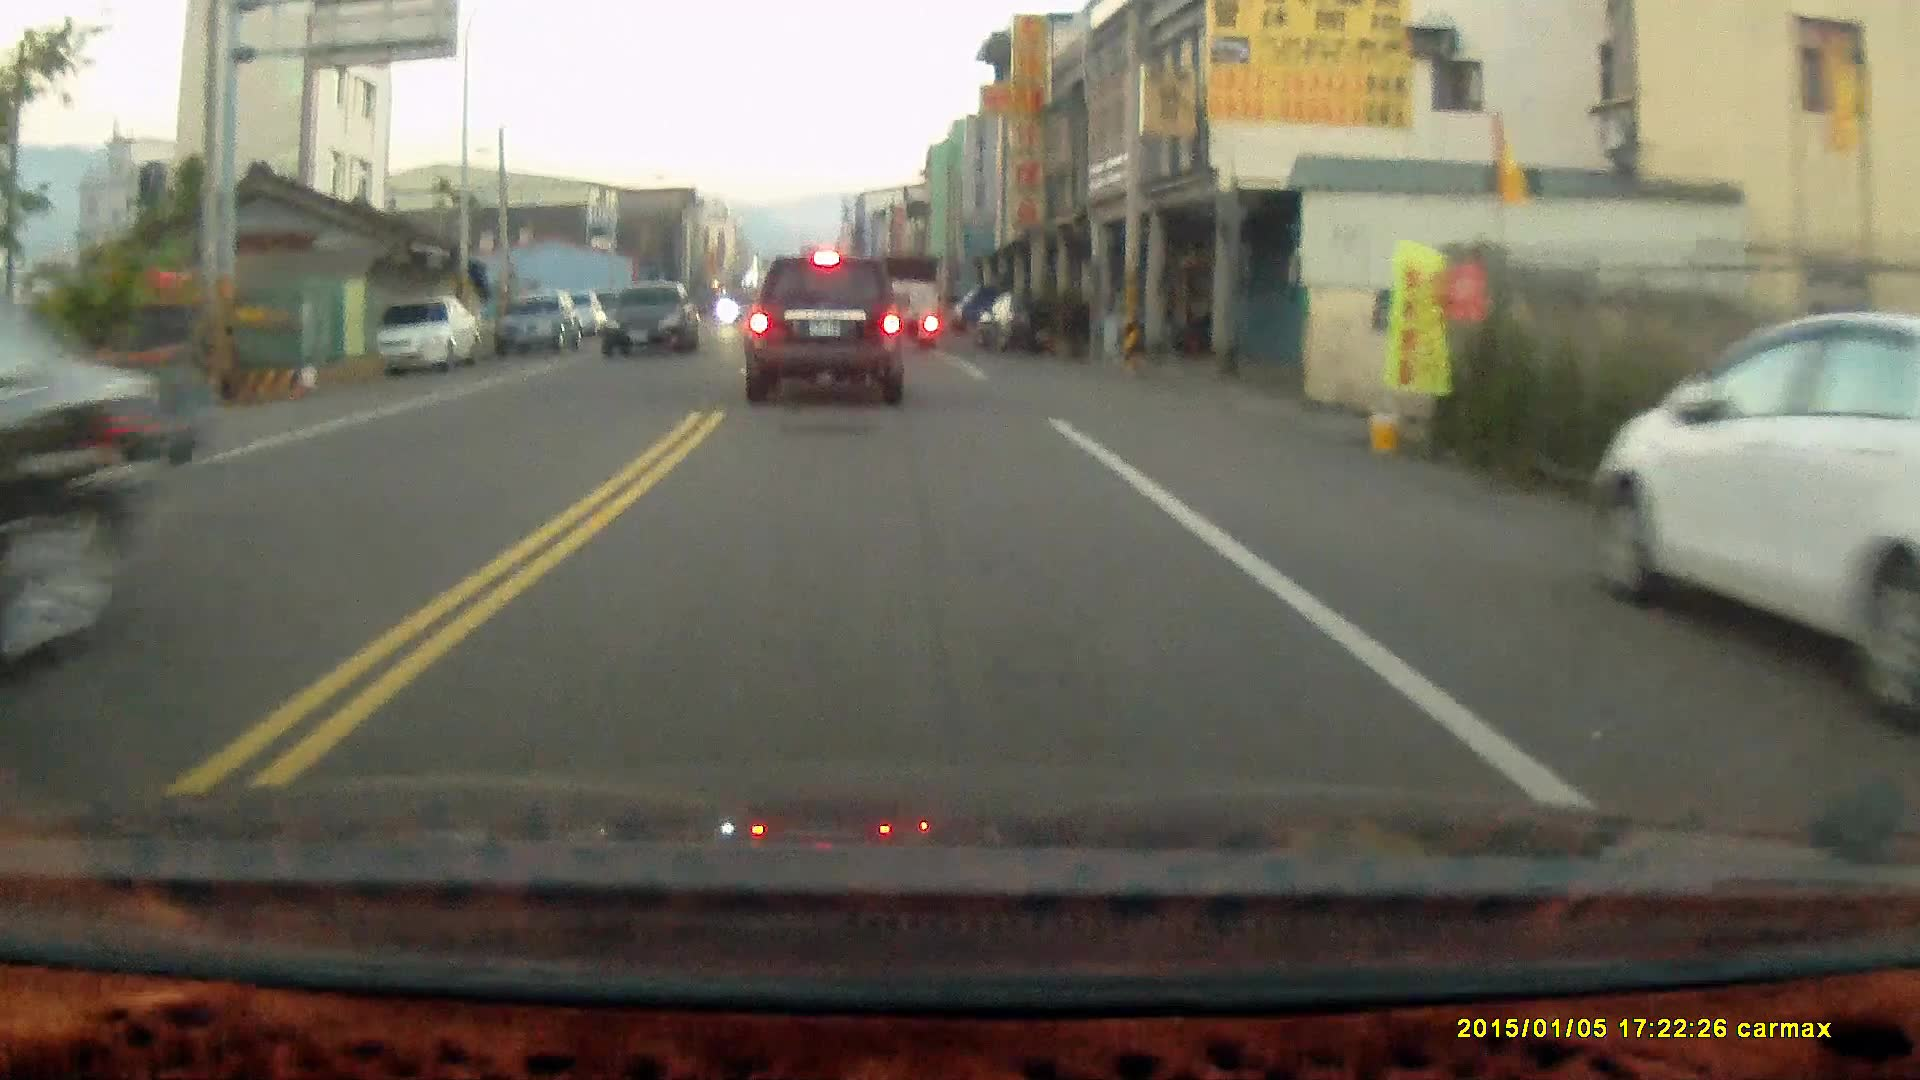vehicle: (1584, 310, 1920, 700), (1, 291, 167, 680), (745, 257, 909, 413), (371, 297, 480, 372), (862, 255, 943, 353), (605, 285, 702, 357), (495, 290, 583, 357)
